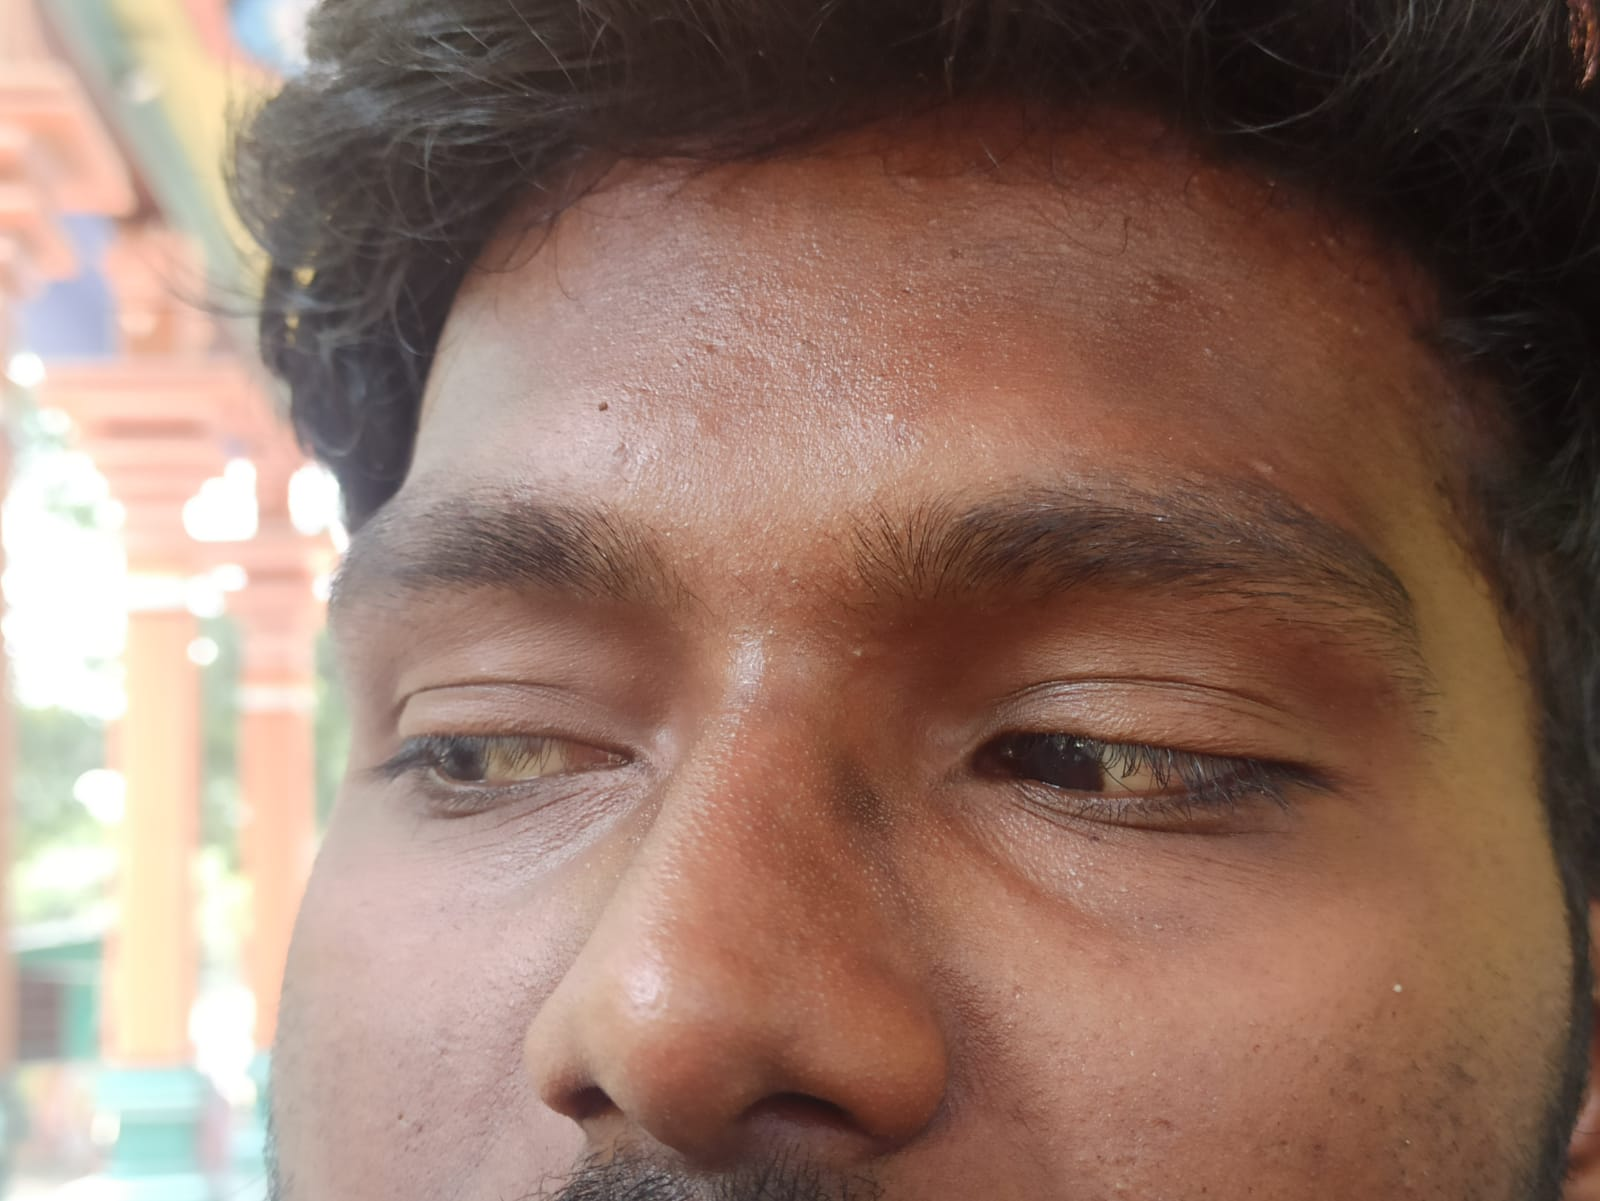EYE RIGHT: (840, 478, 1388, 907), (268, 479, 760, 881)
